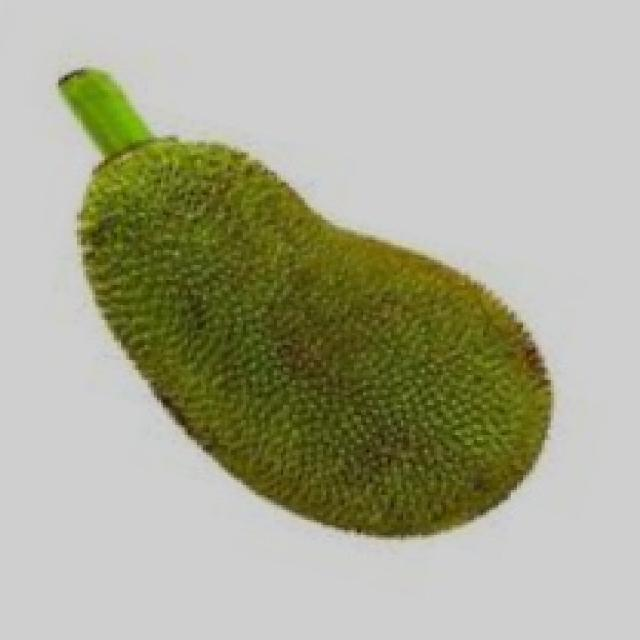Fruit: (169, 168, 582, 560)
